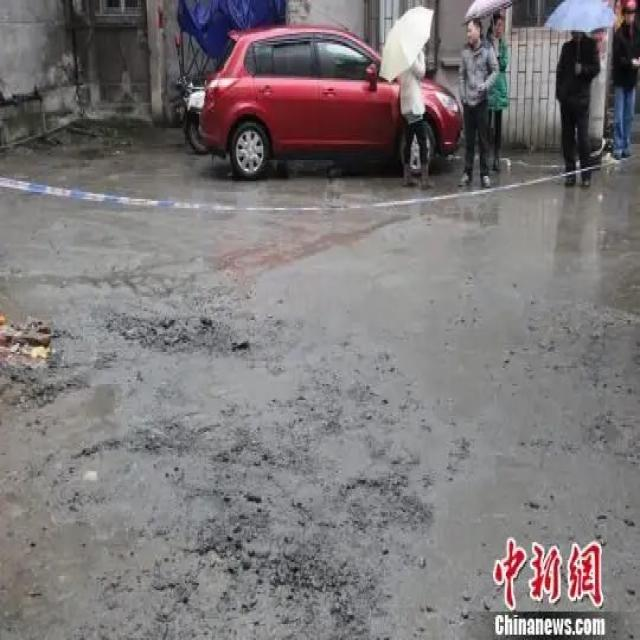Pothole: (193, 524, 385, 622), (111, 309, 250, 363), (15, 324, 86, 407)
